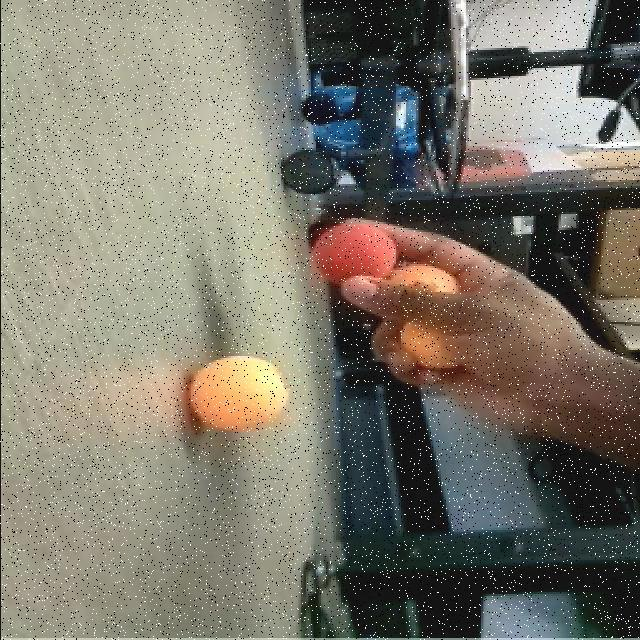ping-pong-ball: (182, 354, 294, 434), (310, 219, 402, 288), (396, 318, 471, 370), (384, 264, 460, 310)
